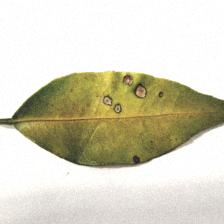canker: (93, 66, 173, 175)
